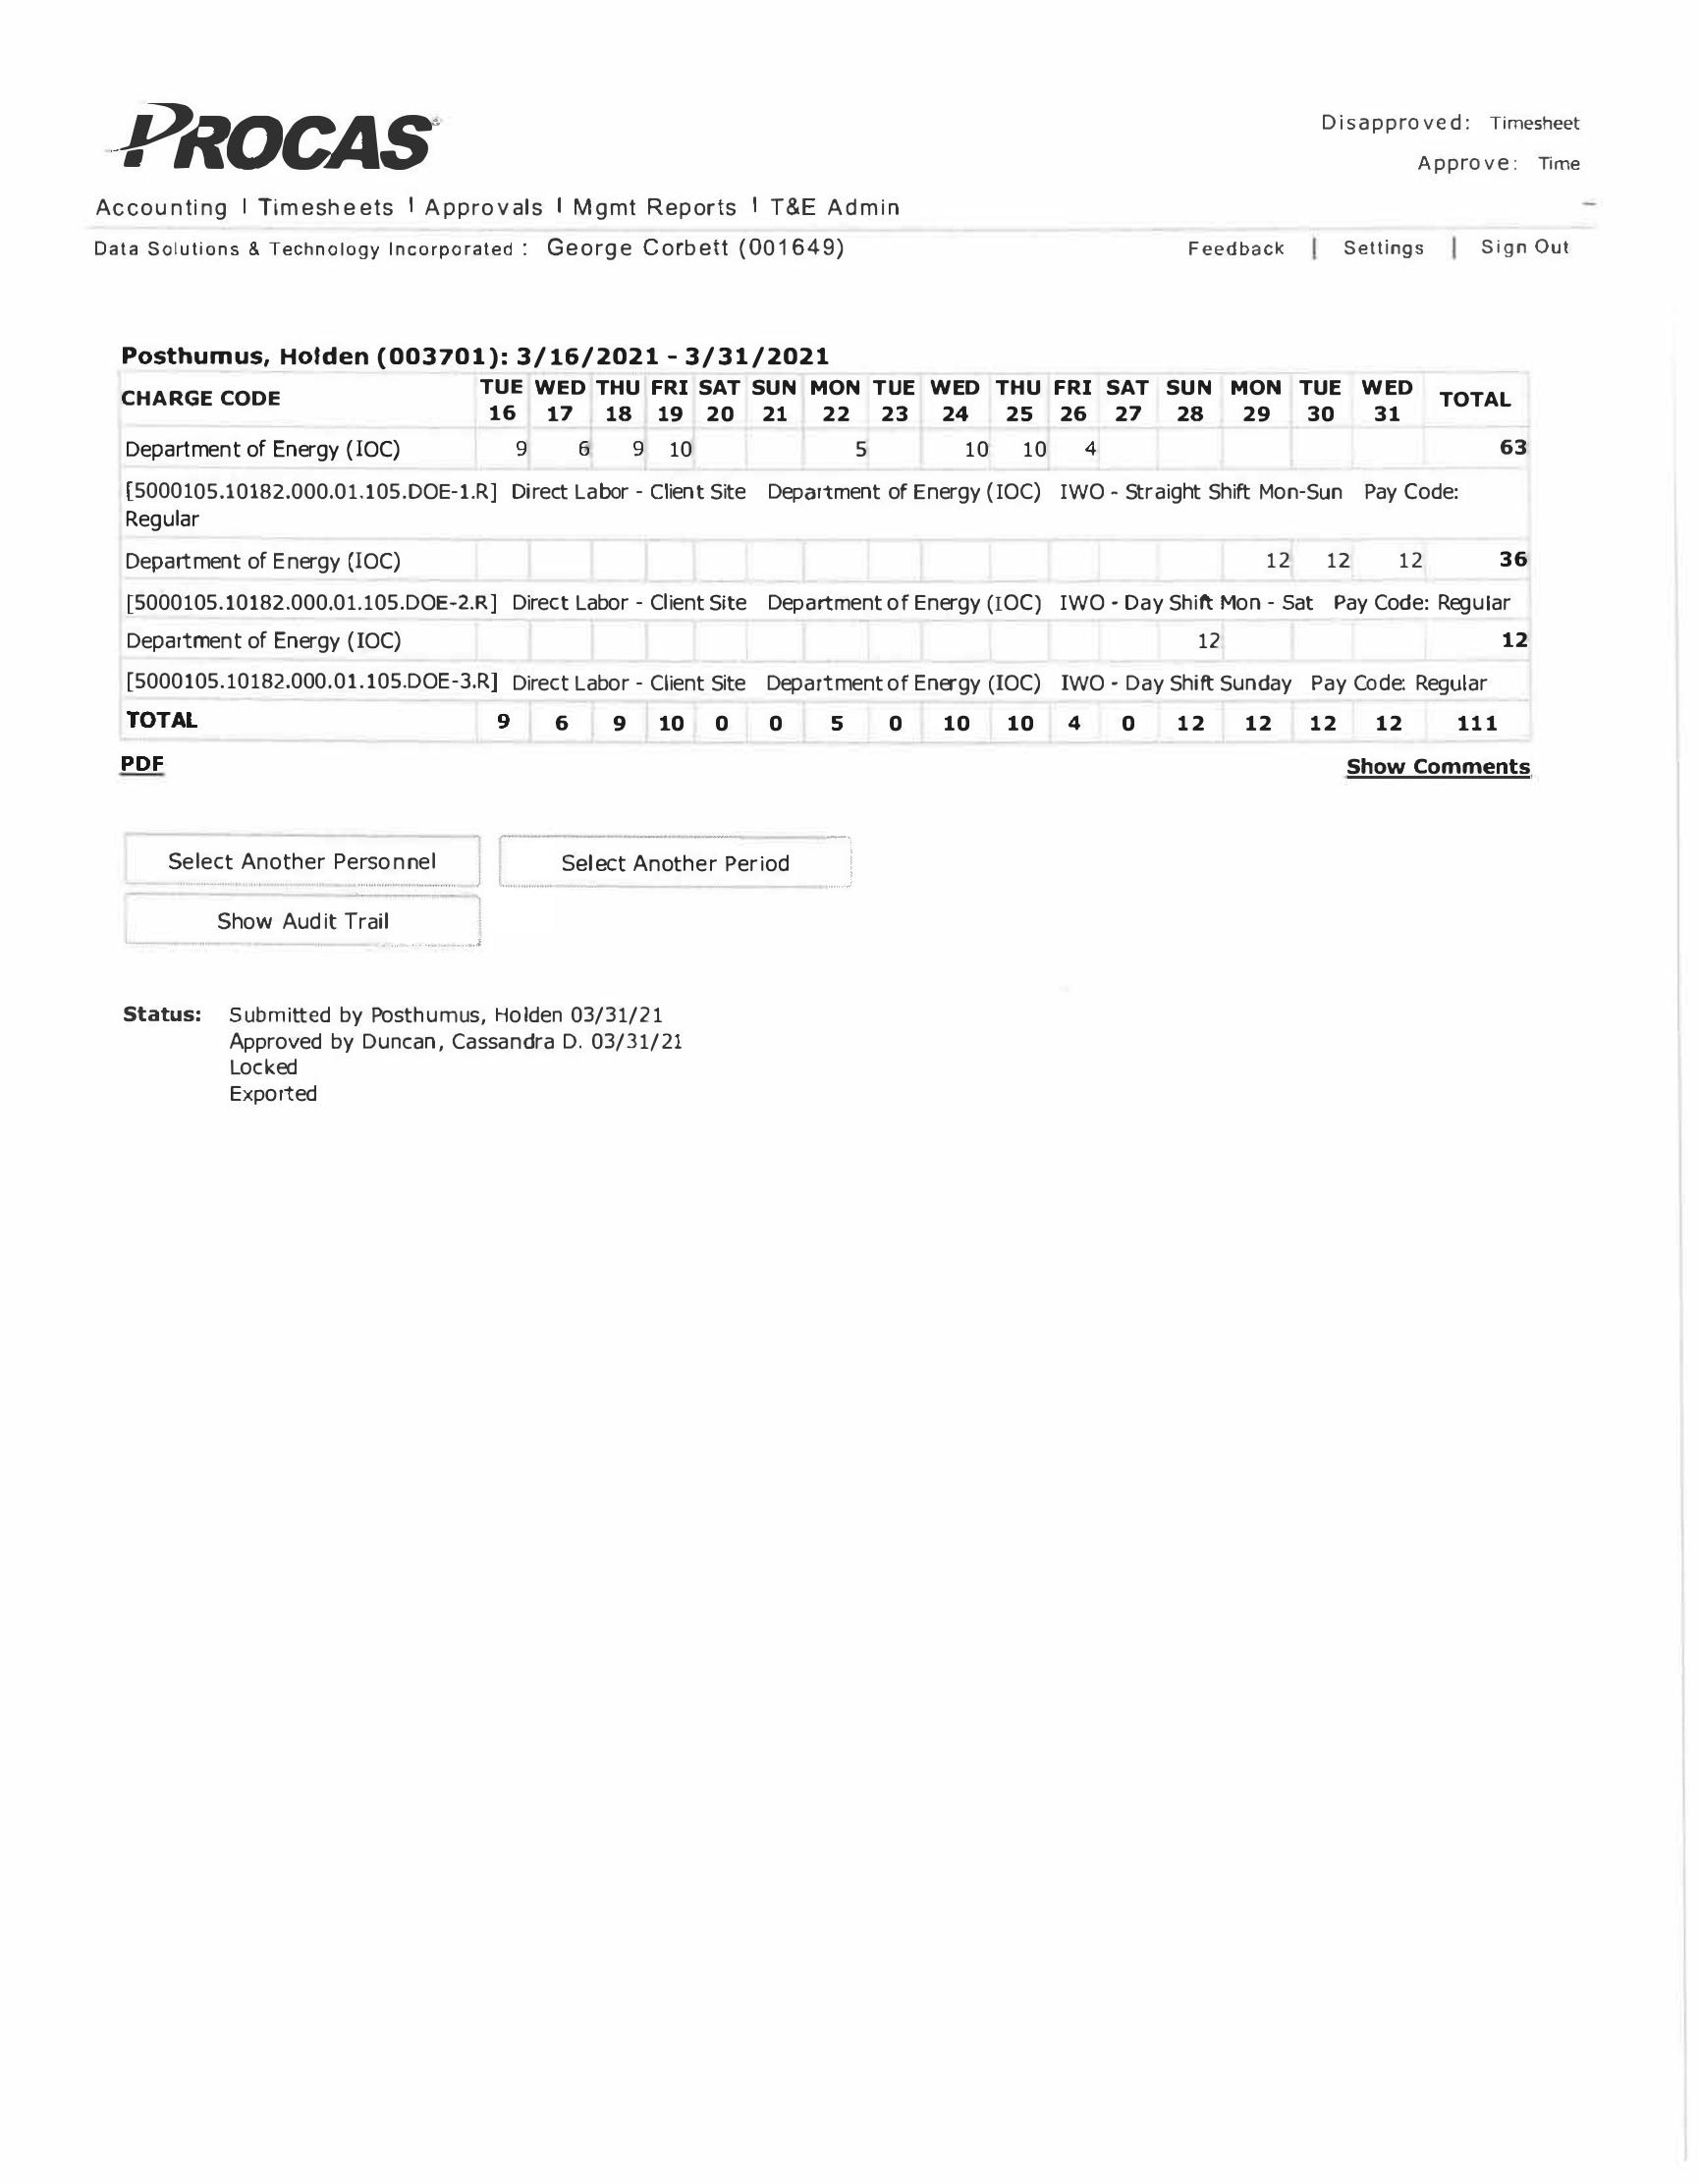table: (117, 367, 1550, 743)
